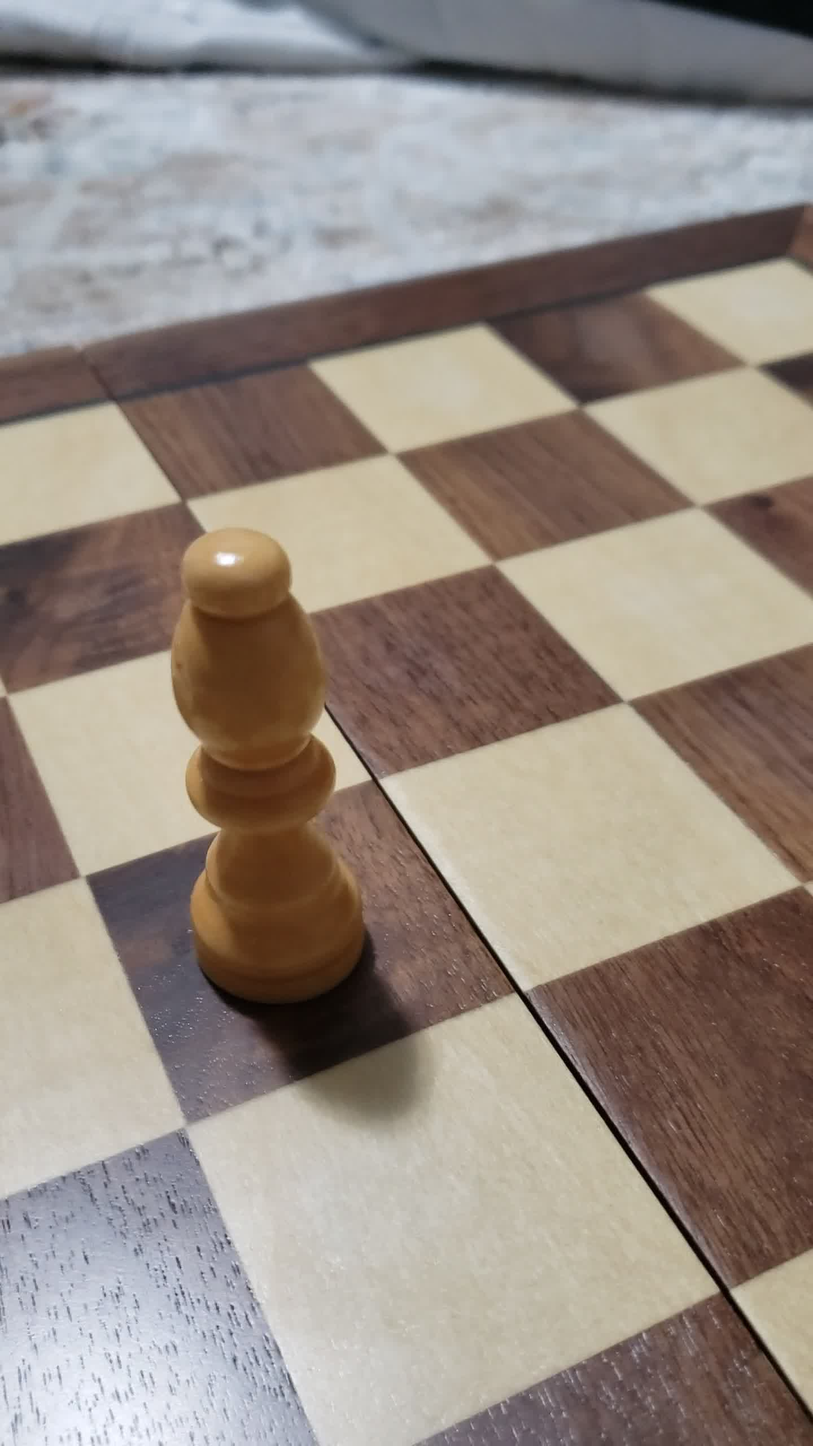white-bishop: (110, 523, 421, 1030)
